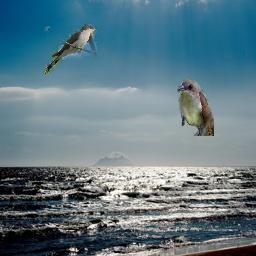Cuckoo: (43, 24, 98, 74), (178, 80, 215, 137)
